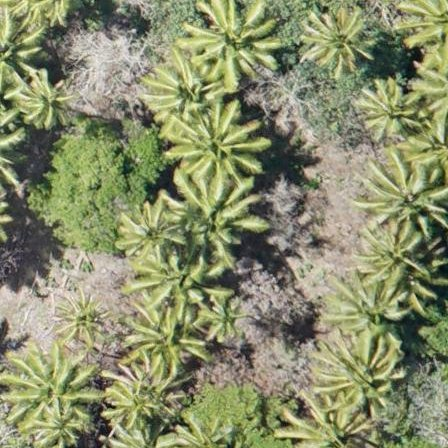palm_tree: (169, 99, 264, 200), (1, 339, 98, 430), (320, 325, 411, 416), (175, 1, 269, 89), (365, 155, 447, 242), (102, 357, 179, 433), (298, 5, 376, 80), (177, 178, 257, 250), (355, 221, 428, 293), (121, 305, 196, 371), (116, 197, 183, 269), (12, 66, 75, 133), (361, 78, 415, 137), (55, 291, 107, 346)
